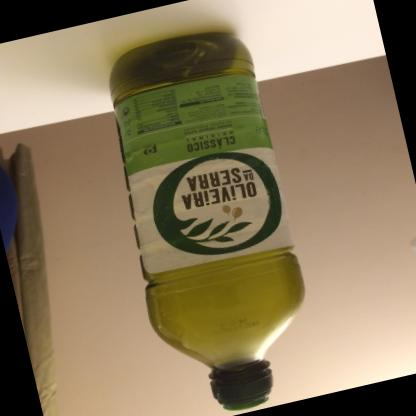Plastic: (108, 31, 304, 410)
